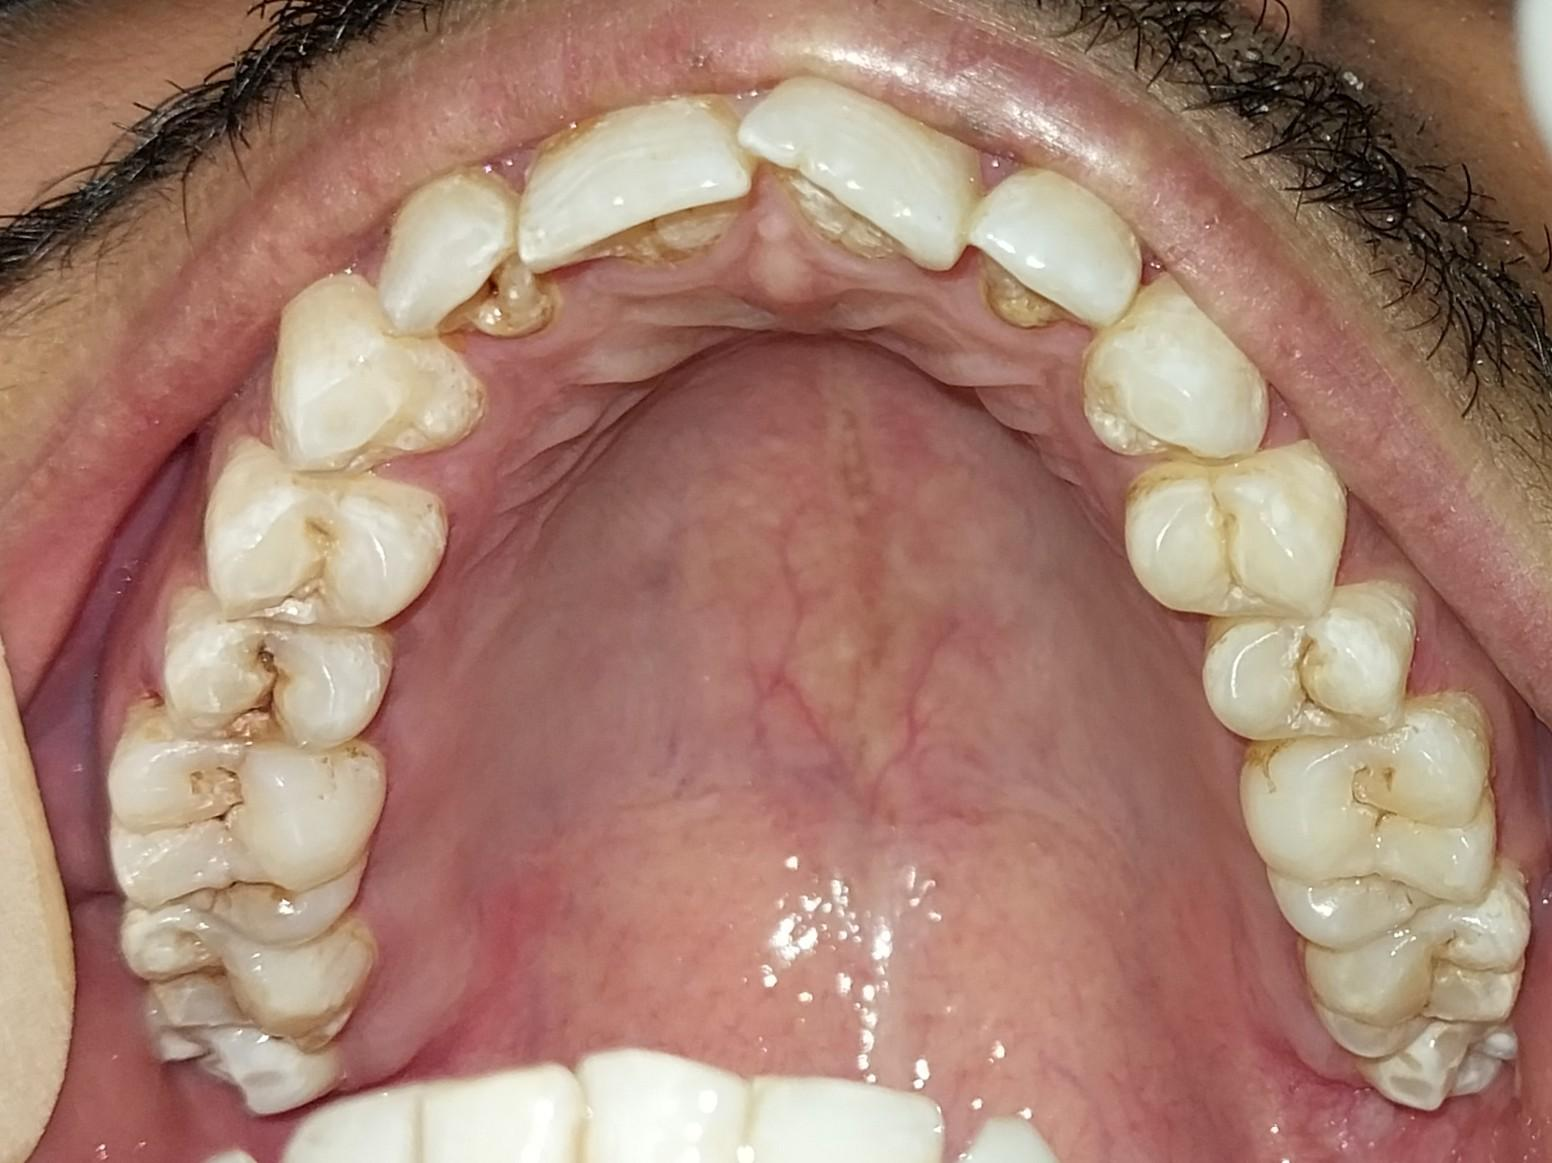D: (106, 714, 385, 944), (158, 598, 393, 748)
